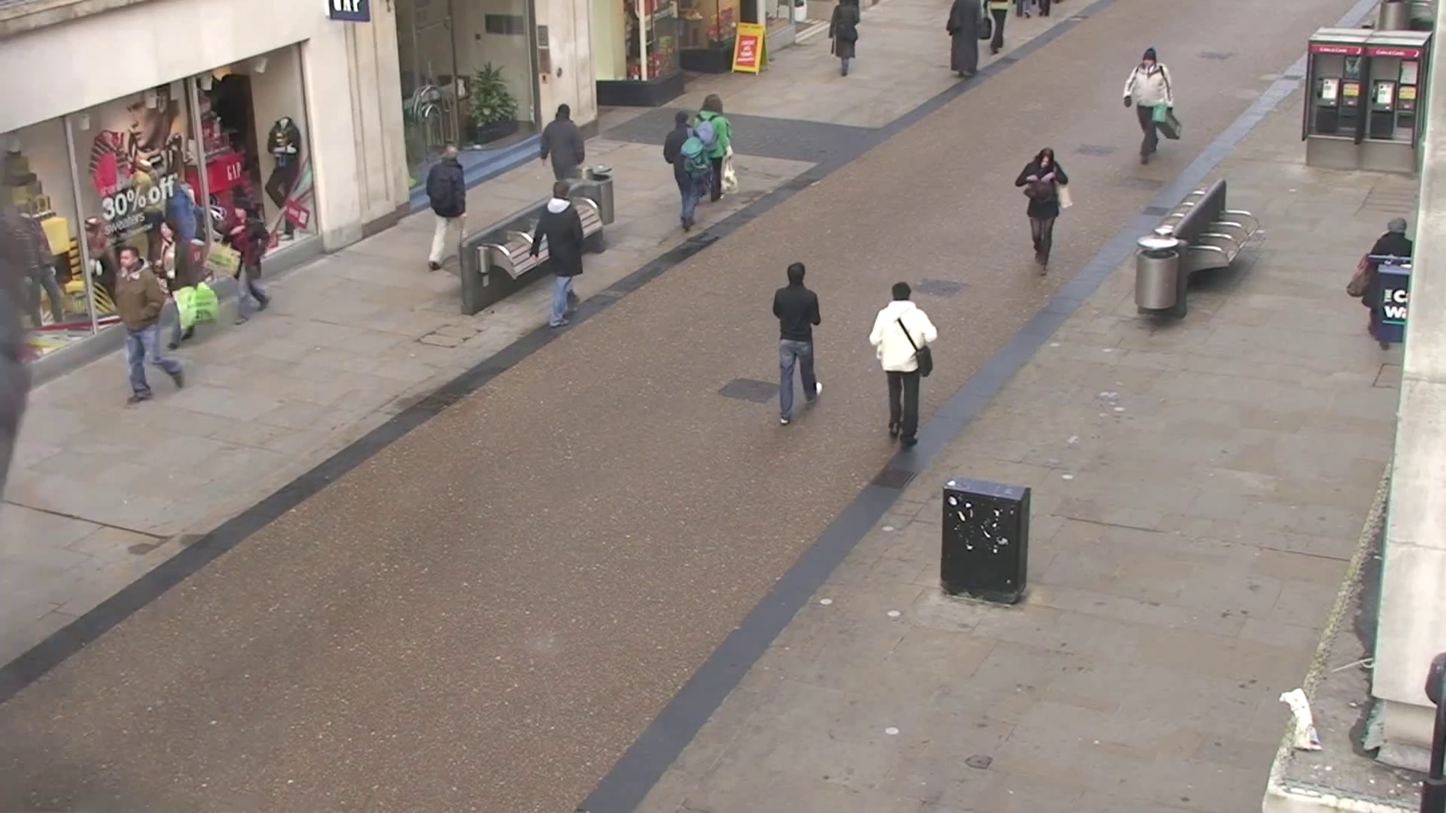person: (868, 281, 938, 449), (212, 205, 285, 349), (111, 243, 172, 403), (772, 261, 823, 424), (148, 212, 212, 340), (534, 184, 587, 327), (1014, 147, 1072, 273), (1122, 45, 1181, 167), (1350, 212, 1420, 309), (792, 0, 869, 81), (422, 142, 469, 273), (663, 108, 709, 233), (691, 96, 737, 199), (541, 102, 584, 188)
